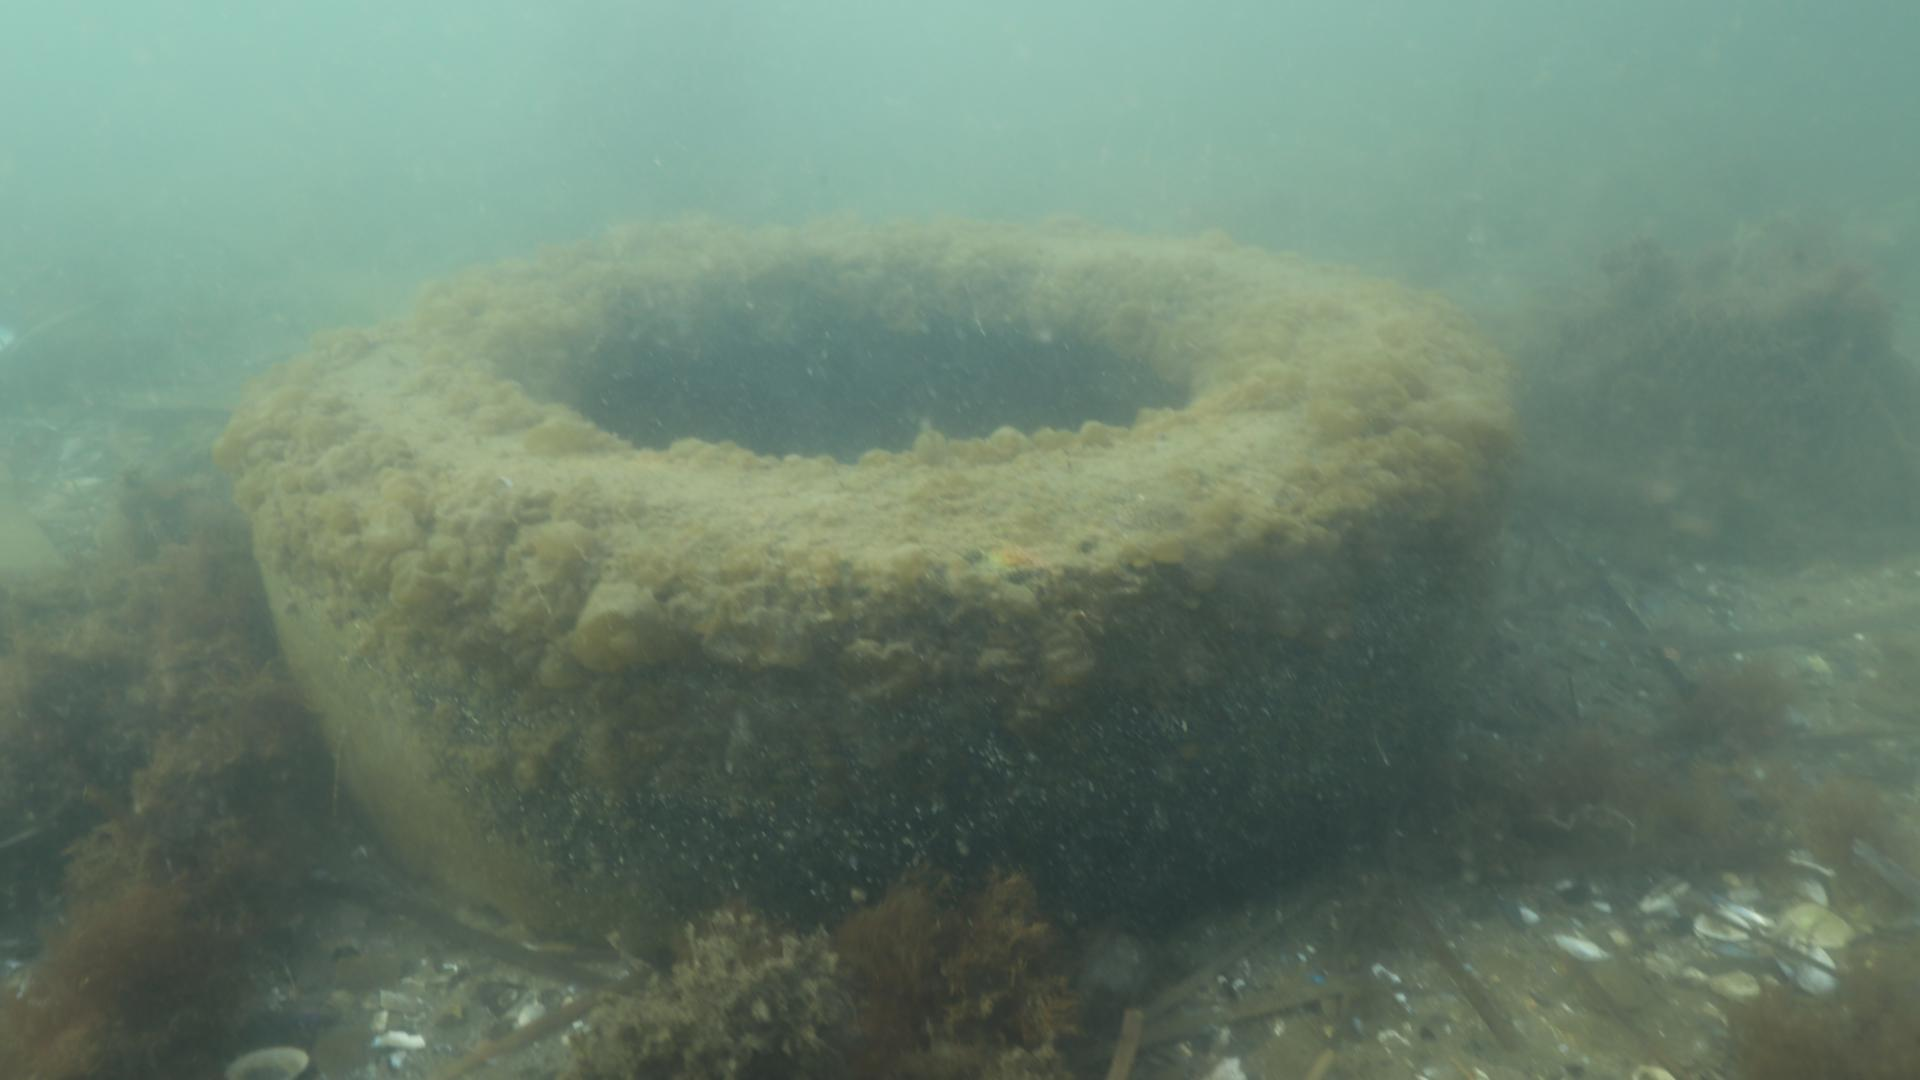tire: (243, 214, 1497, 981)
